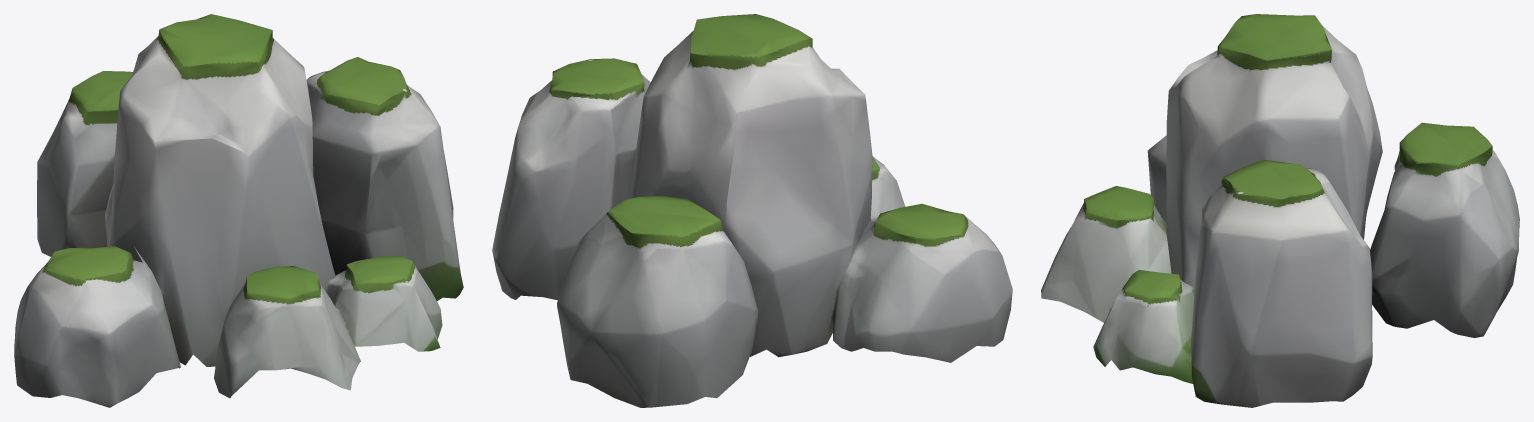
File: rocas.glb
The picture shows the model from 3 angles, left to right: view 1: azimuth 30°, elevation 25°; view 2: azimuth 150°, elevation 25°; view 3: azimuth 270°, elevation 25°; orthographic projection. The views are drawn at different scales.
Visible parts, largest first — view 1: world; view 2: world; view 3: world.
Boxes of the visible parts, bbox=[...] form: world: bbox=[14, 14, 463, 407]; world: bbox=[492, 14, 1012, 407]; world: bbox=[1041, 14, 1519, 407].
Bounding box in the file's own units: 0.9973 × 0.6094 × 0.9595.
Materials: 1 (1 with a texture image).
